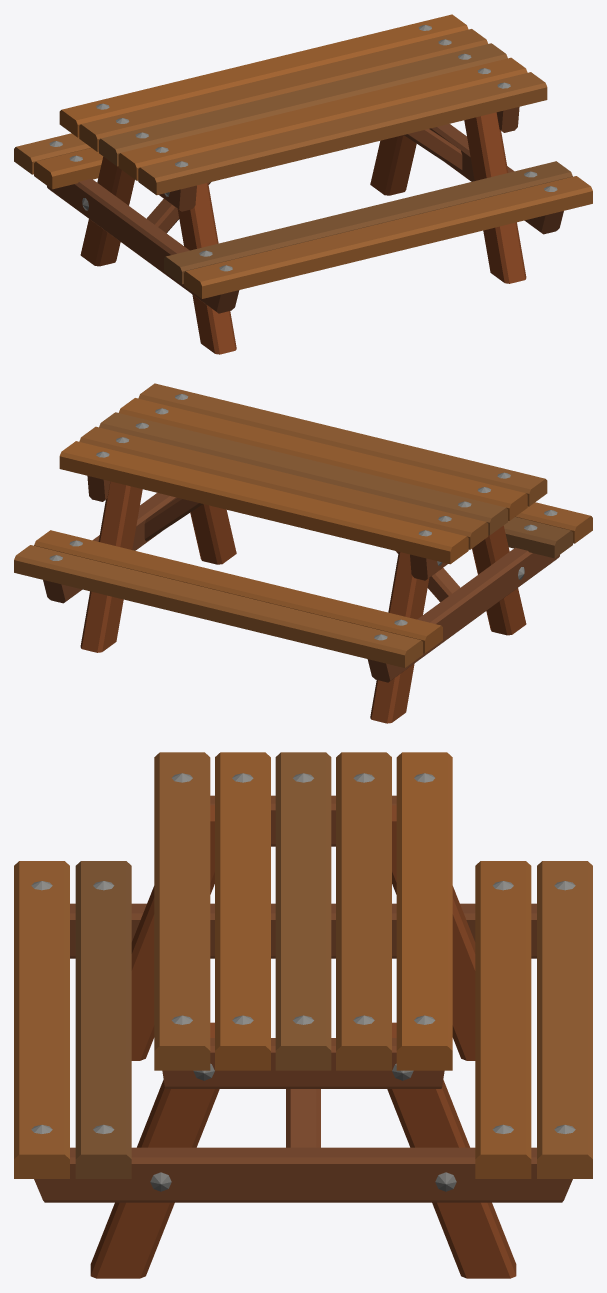
File: pf-heavy-timber-picnic-table-1ac060.glb
3 renders of one model, top to bottom at view 1: azimuth 30°, elevation 25°; view 2: azimuth 150°, elevation 25°; view 3: azimuth 270°, elevation 25°, orthographic. The views are drawn at different scales.
Visible parts, largest first — view 1: table; view 2: table; view 3: table.
Boxes of the visible parts, box(x1,y1,x2,y2) form: table: box(14, 14, 592, 354); table: box(14, 383, 592, 723); table: box(14, 752, 592, 1278).
Size of the model in its own units: 1.8 by 0.764 by 1.5.
